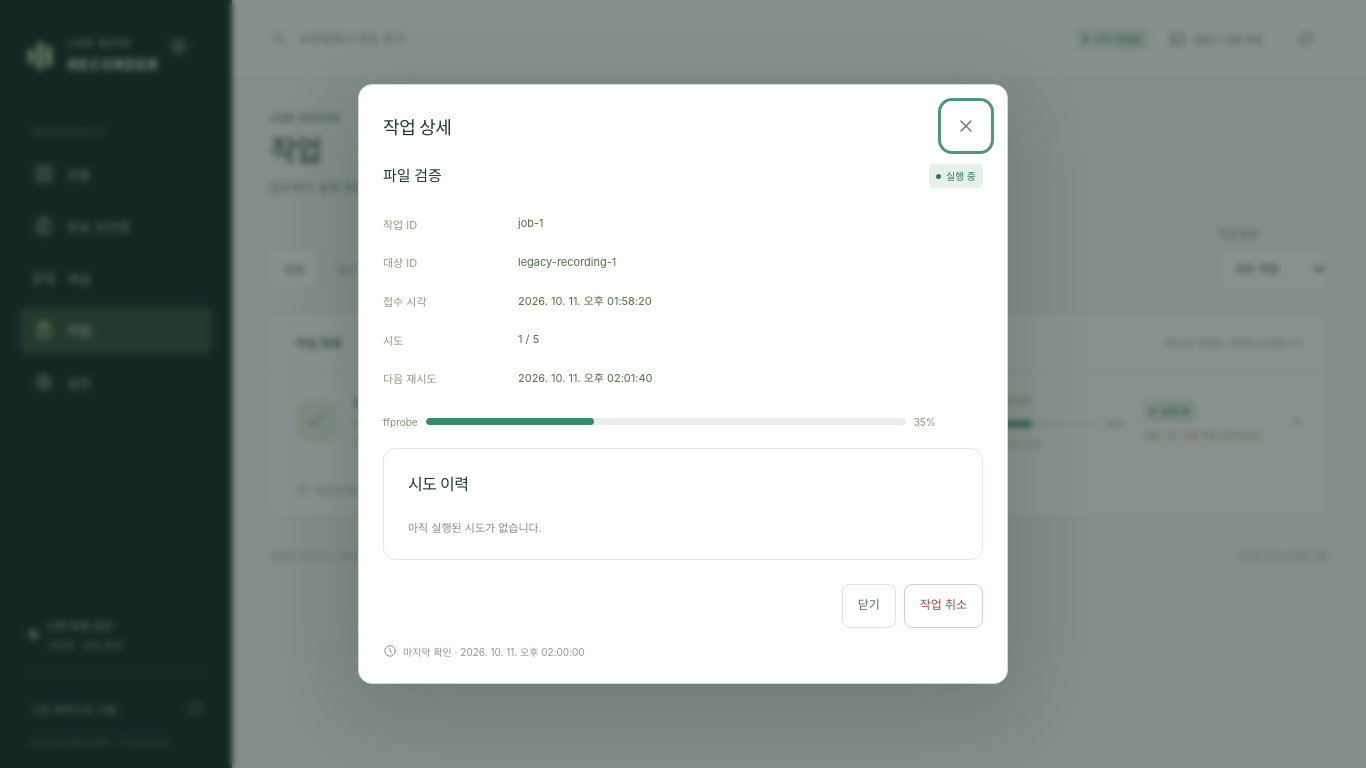
Scenario: job cancellation distinguishes requested from actual termination
This screenshot has width=1366, height=768.
Step 1. Click the button "작업 취소" → click(943, 606), box x1=904 y1=584 x2=983 y2=628
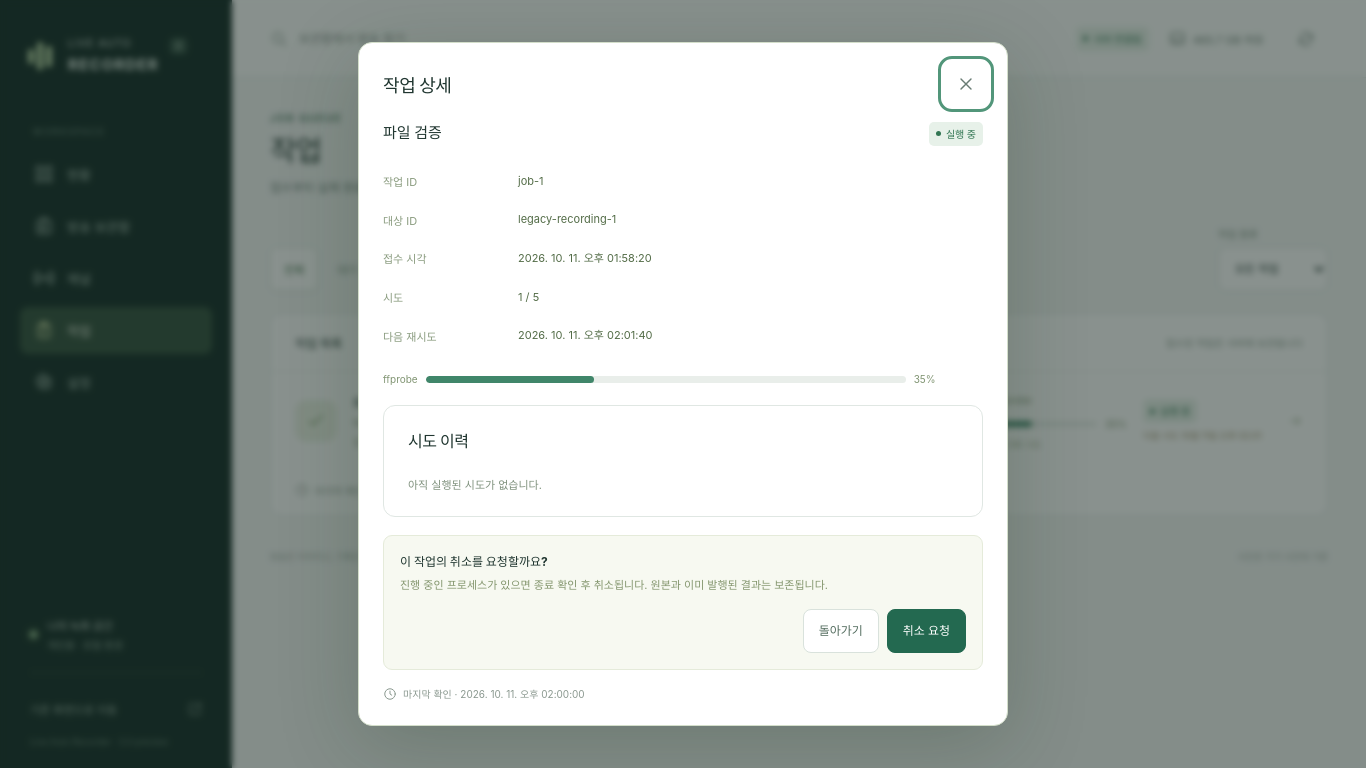
Step 2. Click the button "취소 요청" → click(926, 631), box x1=887 y1=609 x2=966 y2=653
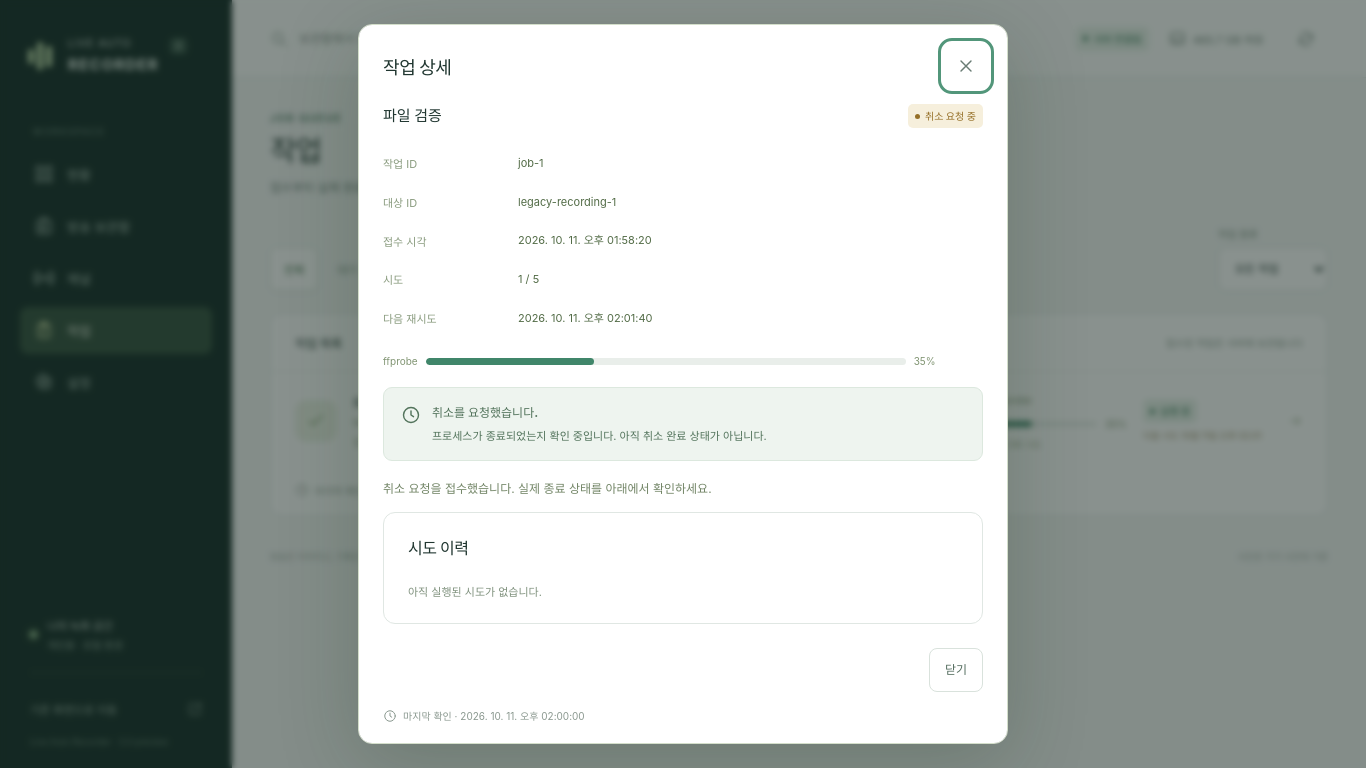
Expected: the text "프로세스가 종료되었는지 확인 중입니다. 아직 취소 완료 상태가 아닙니다." is shown, x1=432 y1=429 x2=767 y2=443
